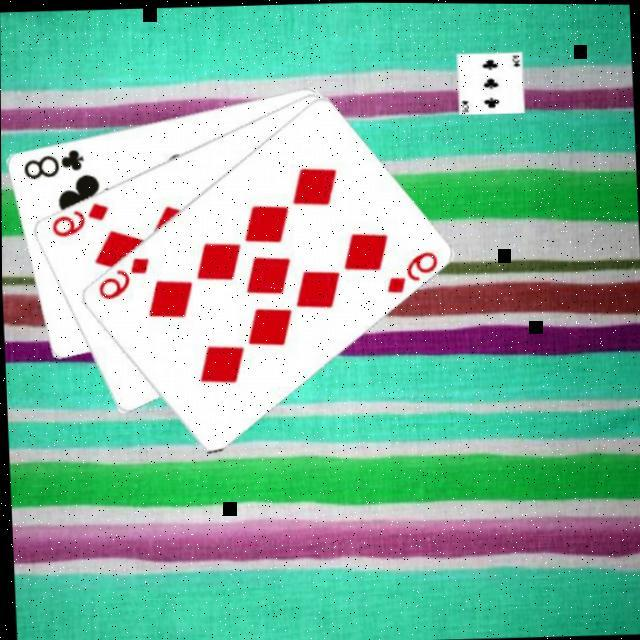8C: (19, 144, 87, 180)
9D: (92, 250, 154, 300), (381, 244, 441, 294), (47, 196, 111, 238)
